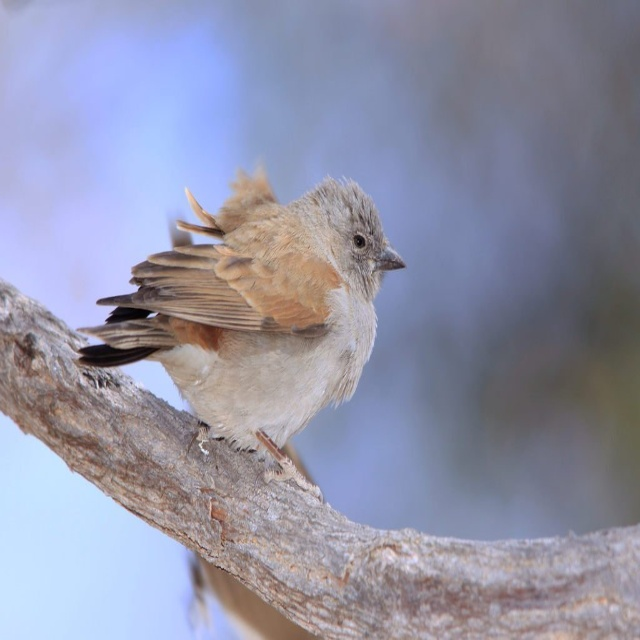Sparrow: (82, 167, 402, 502)
